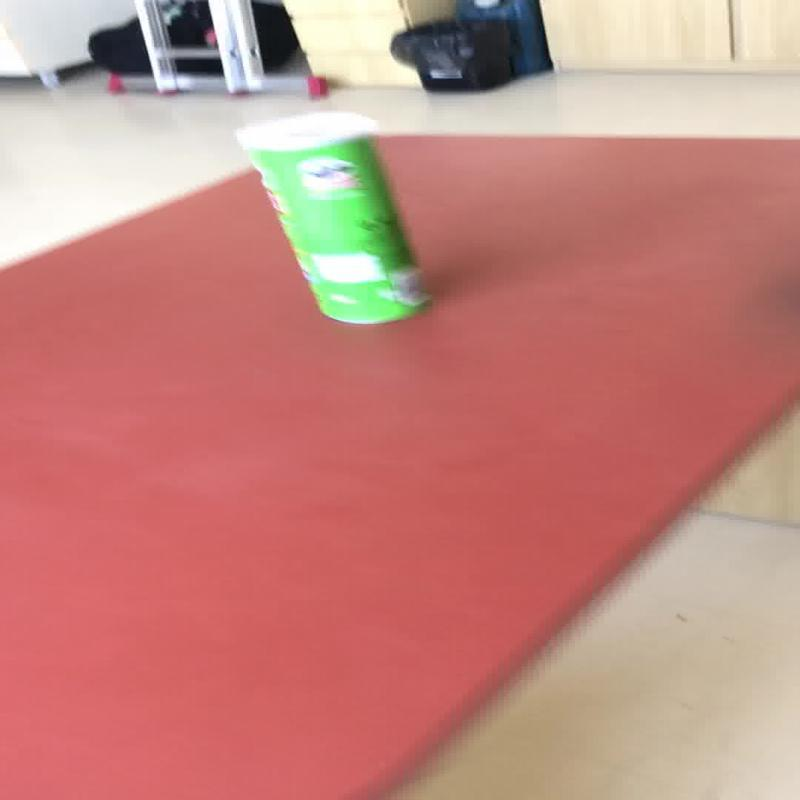pringles: (234, 110, 430, 324)
